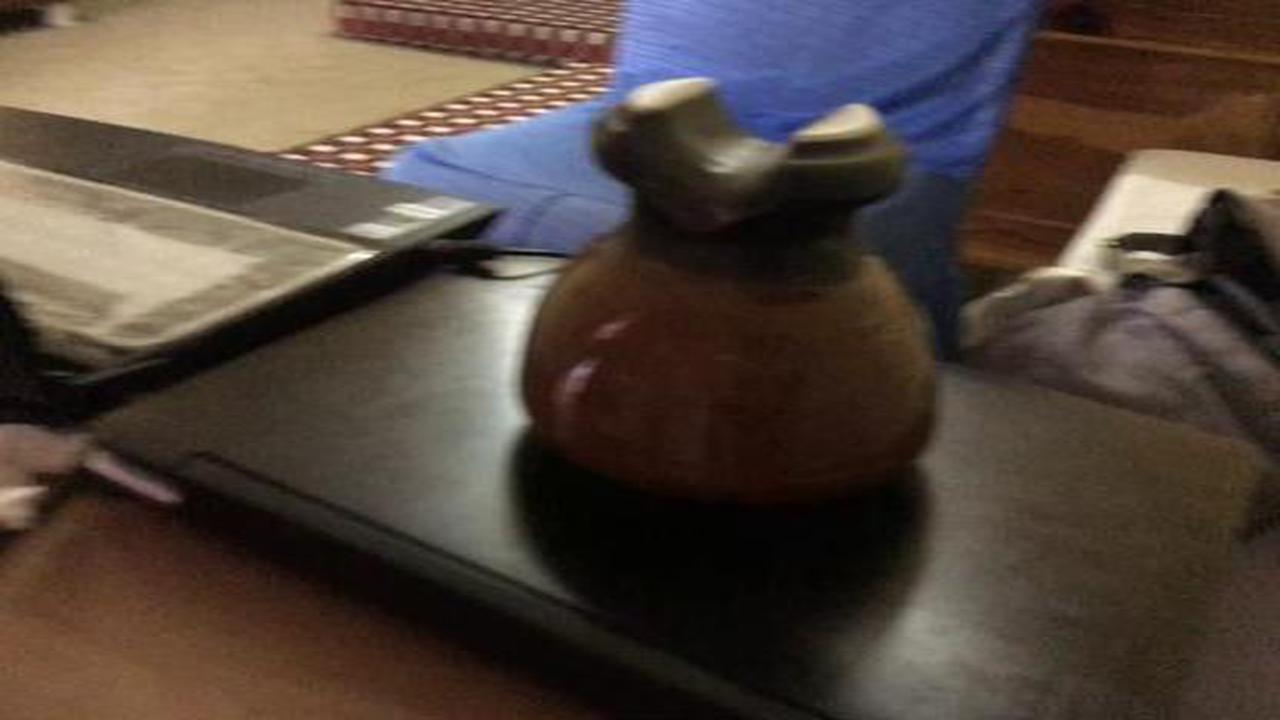insulator_pin: (508, 65, 979, 528)
